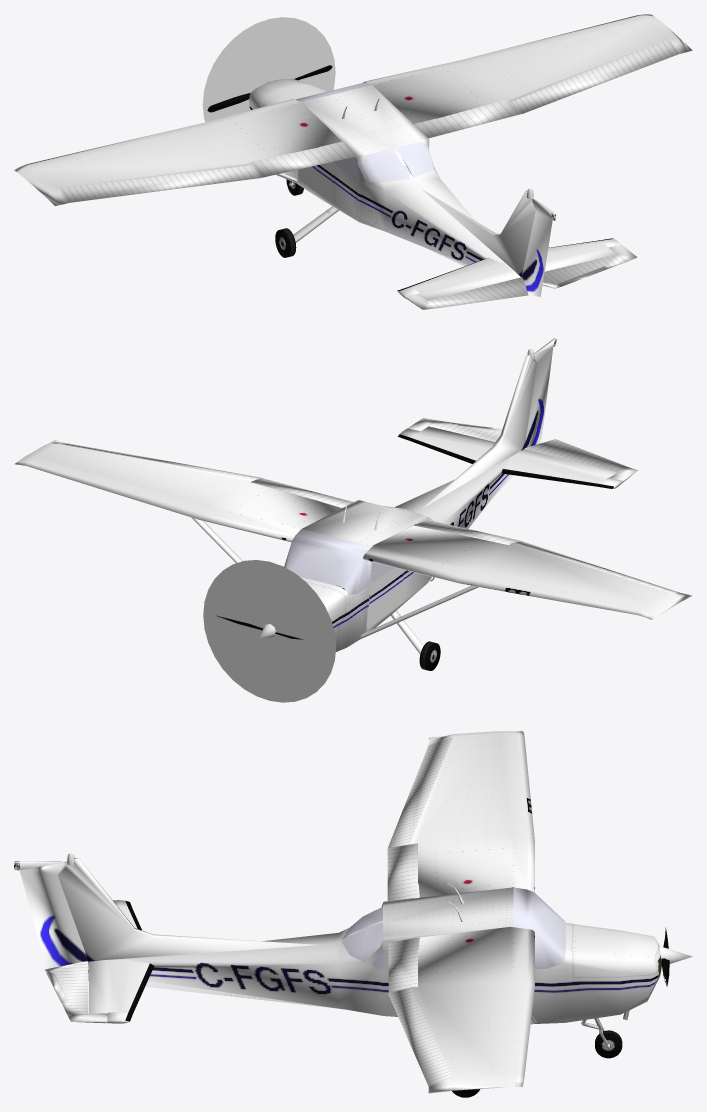
3 views of the same model, one above another, from view 1: azimuth 30°, elevation 25°; view 2: azimuth 150°, elevation 25°; view 3: azimuth 270°, elevation 25° (orthographic). The views are drawn at different scales.
Parts seen in each view (by area): view 1: Oleo; view 2: Oleo; view 3: Oleo.
Boxes of the visible parts, left/top/right/bottom form: Oleo: left=14, top=14, right=692, bottom=309; Oleo: left=14, top=338, right=692, bottom=702; Oleo: left=14, top=731, right=692, bottom=1097.
Bounding box in the file's own units: 9.63 × 7.77 × 2.57.
4 materials, 4 textured.
